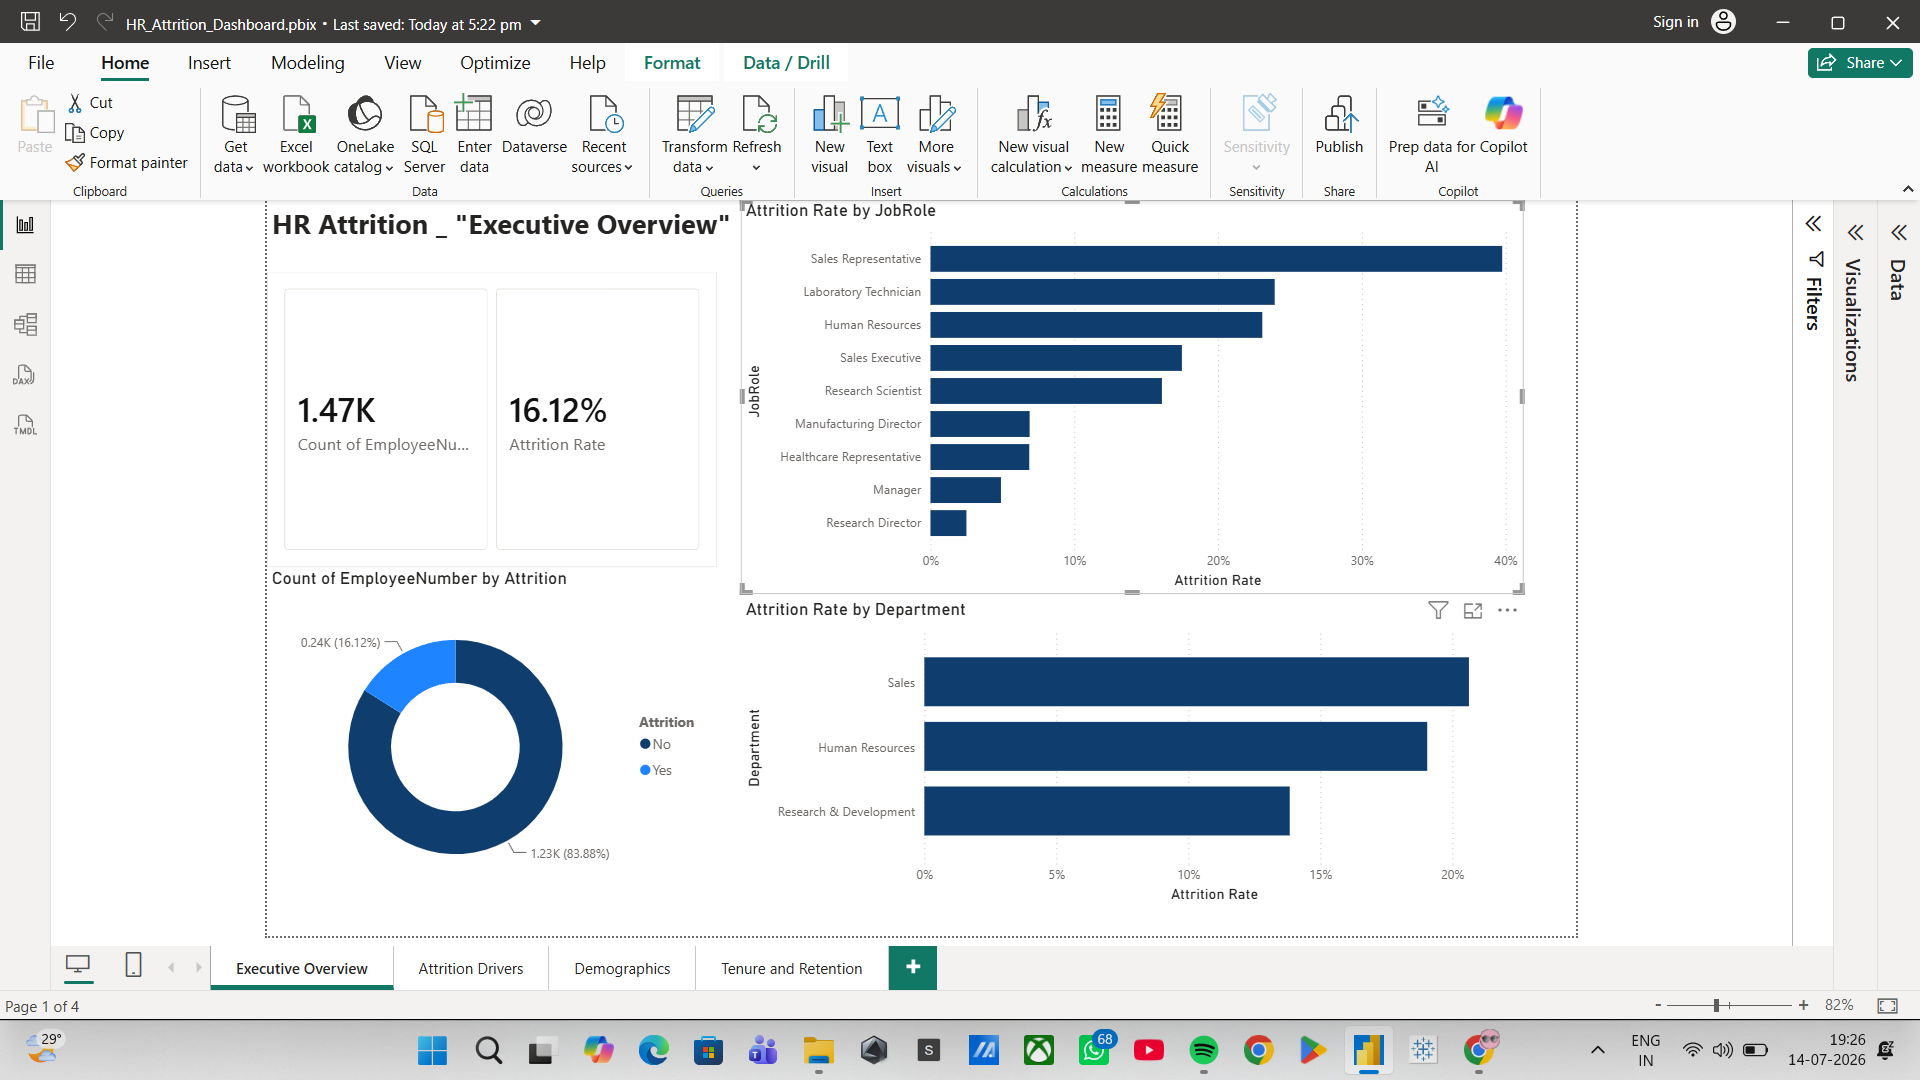

What the dashboard file says about the page in this screenshot:
{"tool":"powerbi","page":{"name":"Executive Overview","canvas":[1280,720],"ordinal":0},"visuals":[{"type":"cardVisual","fields":{"Data":["CountNonNull(IBM DATA SET.EmployeeNumber)","IBM DATA SET.Attrition Rate"]},"box":[0,70,440,290],"z":0},{"type":"donutChart","fields":{"Category":["IBM DATA SET.Attrition"],"Y":["CountNonNull(IBM DATA SET.EmployeeNumber)"]},"box":[0,360,440,332.5],"z":1000},{"type":"clusteredBarChart","fields":{"Category":["IBM DATA SET.Department"],"Y":["IBM DATA SET.Attrition Rate"]},"box":[463.8,390,765,302.5],"z":2000},{"type":"clusteredBarChart","fields":{"Category":["IBM DATA SET.JobRole"],"Y":["IBM DATA SET.Attrition Rate"]},"box":[463.8,0,765,385],"z":3000},{"type":"textbox","box":[0,0,463.8,70],"z":4000}]}

Visuals, with their boxes on the page's 1280x720 design canvas (x1, y1, x2, y2). These are canvas units, not pixel positions in the 1920x1080 screenshot, which may show the page scaled, cropped or inside an application window:
cardVisual - CountNonNull(IBM DATA SET.EmployeeNumber) x IBM DATA SET.Attrition Rate: 0 70 440 360
donutChart - IBM DATA SET.Attrition x CountNonNull(IBM DATA SET.EmployeeNumber): 0 360 440 692
clusteredBarChart - IBM DATA SET.Department x IBM DATA SET.Attrition Rate: 464 390 1229 692
clusteredBarChart - IBM DATA SET.JobRole x IBM DATA SET.Attrition Rate: 464 0 1229 385
textbox: 0 0 464 70
